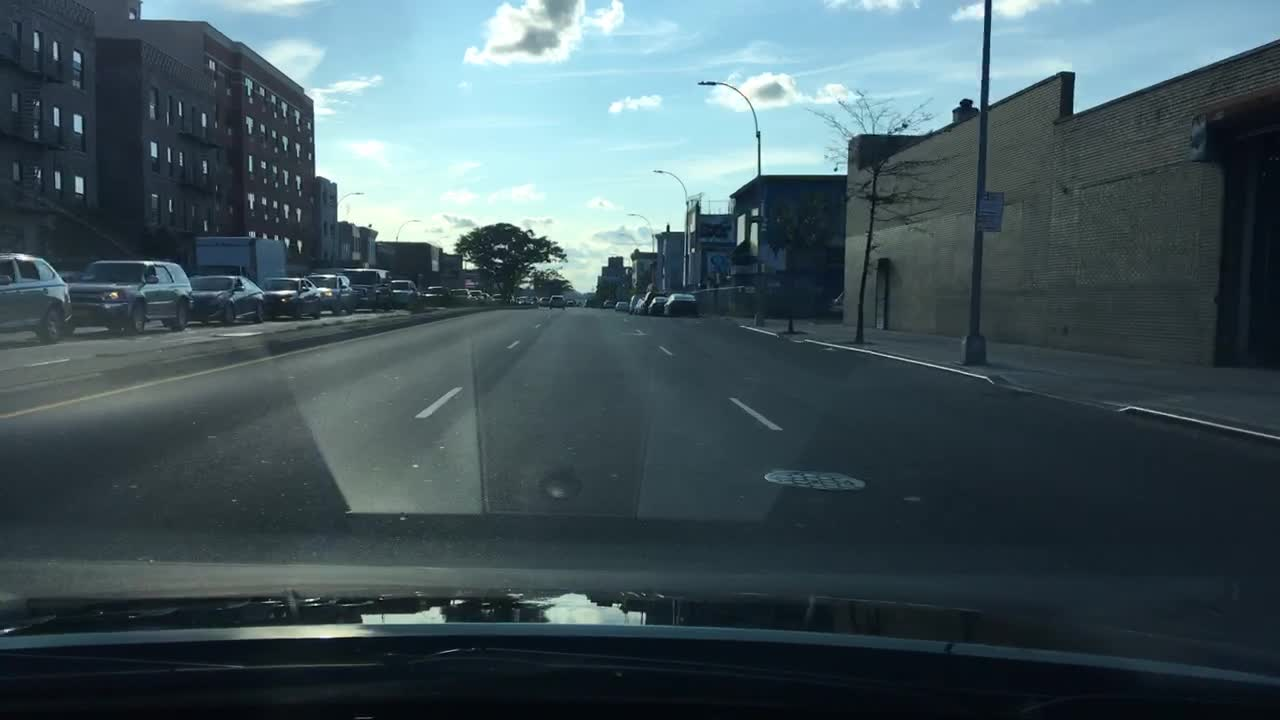car: (68, 258, 197, 334), (0, 253, 73, 340), (182, 273, 268, 326), (266, 276, 321, 320), (347, 265, 394, 307), (304, 275, 352, 313), (391, 278, 421, 310), (641, 287, 664, 320), (668, 293, 701, 316), (423, 284, 454, 304), (649, 294, 670, 318), (628, 294, 647, 317), (449, 287, 470, 304), (549, 292, 567, 308), (512, 294, 531, 307), (615, 300, 631, 313), (541, 294, 554, 308), (492, 292, 507, 304), (467, 289, 483, 300), (530, 294, 543, 307), (480, 291, 494, 302), (602, 297, 615, 308)
traffic sign: (980, 187, 1002, 233)
truck: (192, 234, 286, 290)
